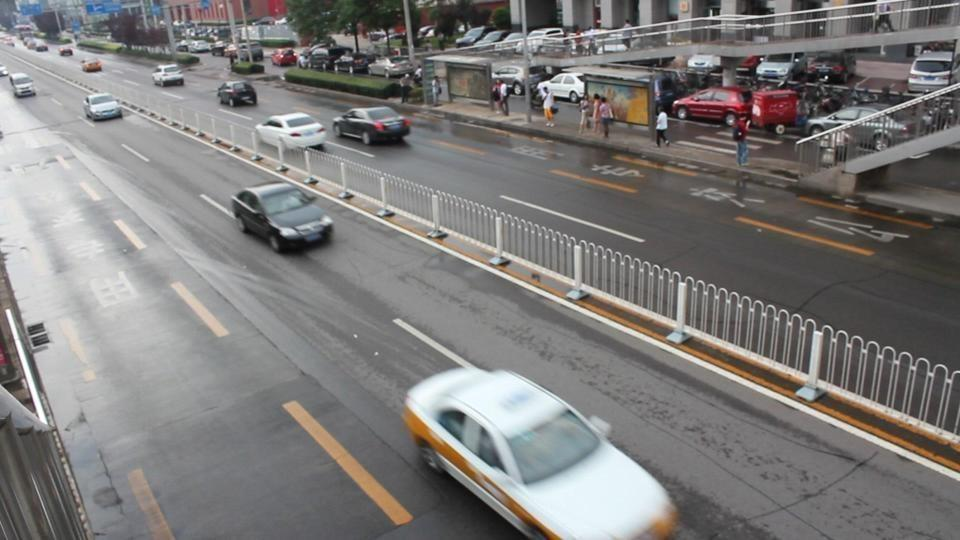car: (401, 365, 681, 538), (230, 181, 334, 253), (254, 111, 328, 155), (671, 86, 753, 125), (333, 105, 412, 145), (806, 106, 887, 137), (908, 50, 956, 91), (755, 51, 806, 87), (797, 54, 850, 85), (536, 73, 585, 103), (452, 26, 509, 49), (82, 91, 122, 123), (686, 53, 723, 83), (217, 80, 258, 107), (152, 63, 184, 88), (8, 73, 36, 99)
